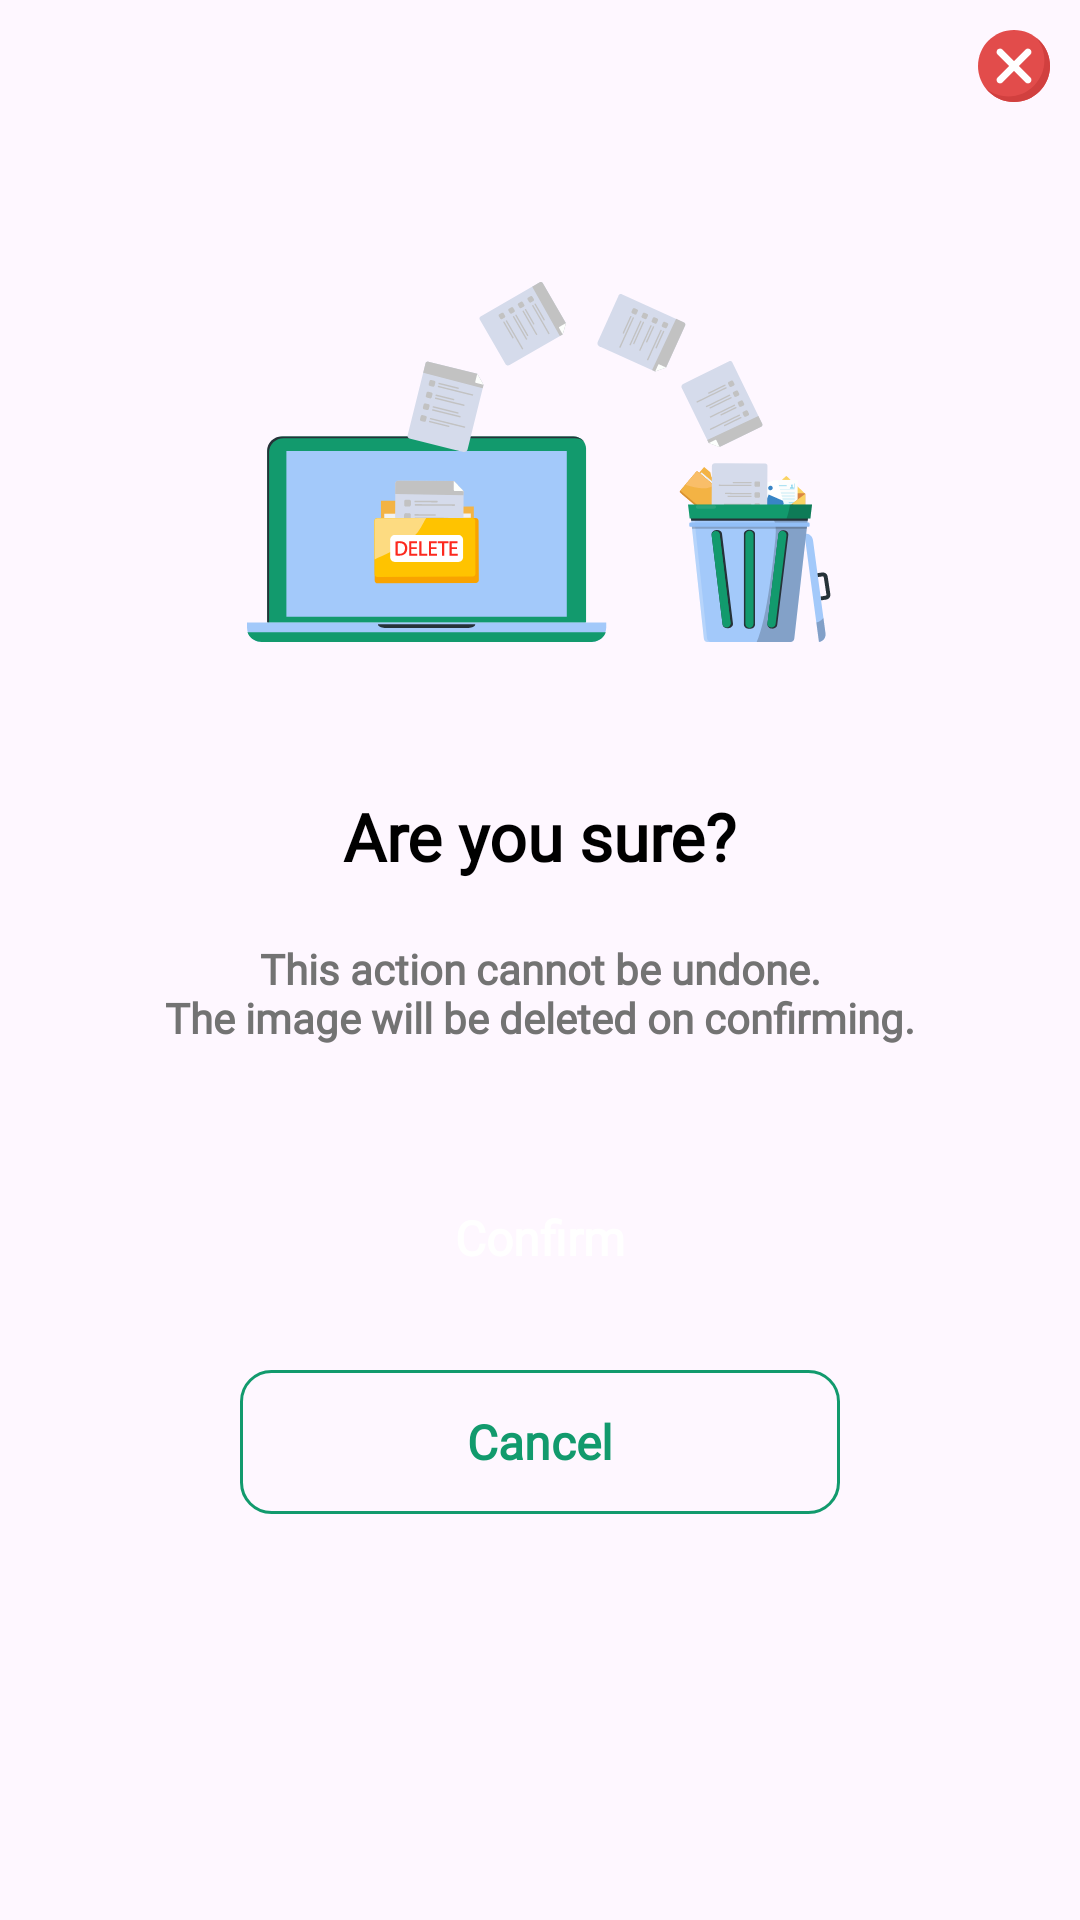

Icon bounding boxes for this 1080 × 1920 phone screenshot, format [left=x1, top=y1, right=x2, bottom=y2]:
cancel: [left=978, top=30, right=1050, bottom=102]
